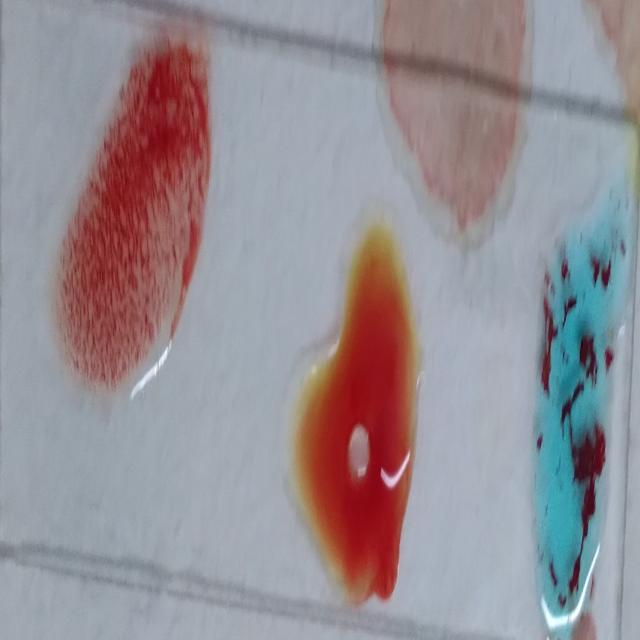A: (532, 232, 612, 618)
D: (62, 28, 213, 400)
